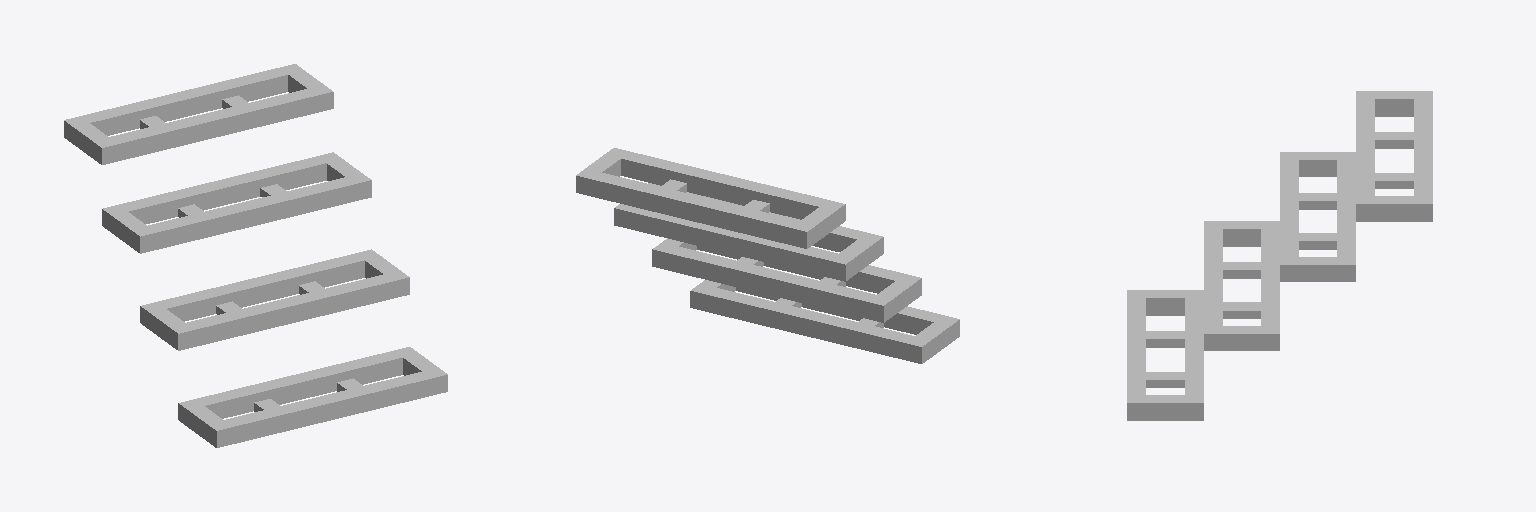
Rendered from stairs_south.obj.
The picture shows the model from 3 angles: view 1: azimuth 30°, elevation 25°; view 2: azimuth 150°, elevation 25°; view 3: azimuth 270°, elevation 25°; orthographic projection.
Visible parts, largest first — view 1: stairs_south; view 2: stairs_south; view 3: stairs_south.
Boxes of the visible parts, box(x1,y1,x2,y2) form: stairs_south: box(64, 64, 447, 447); stairs_south: box(576, 148, 959, 363); stairs_south: box(1127, 91, 1432, 420).
Size of the model in its own units: 0.8748 by 0.781 by 0.9998.